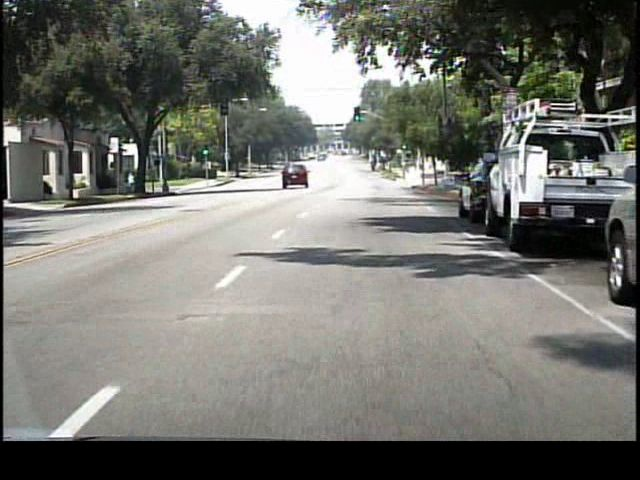person: (129, 170, 137, 195)
